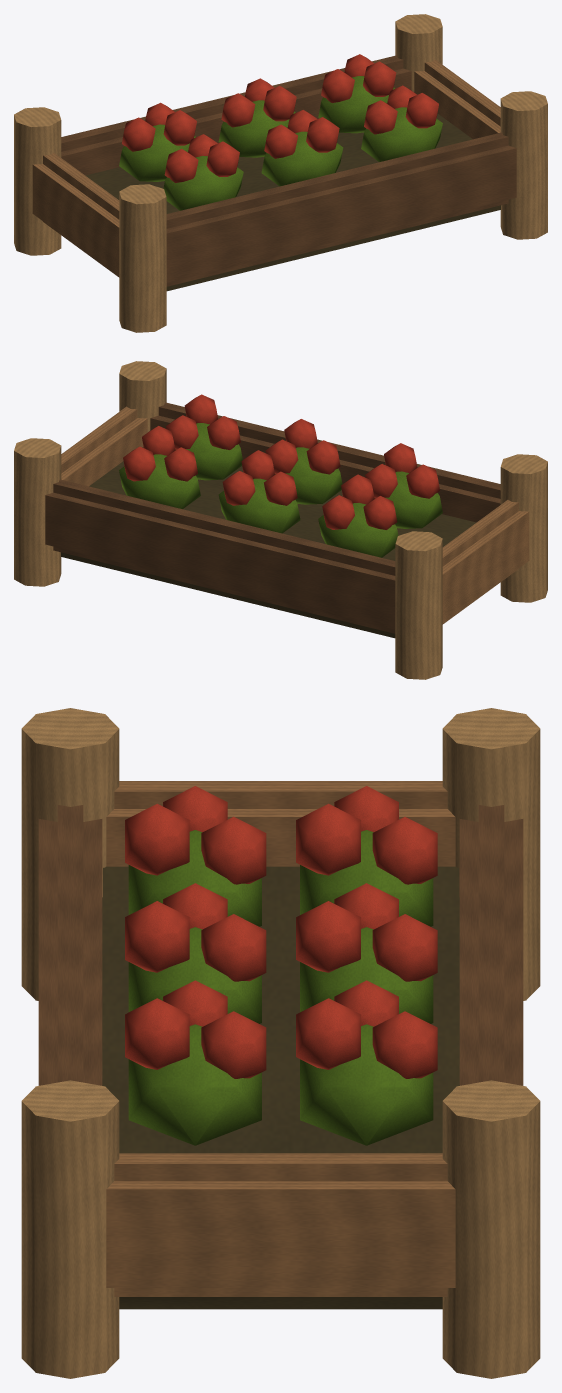
Rendered from planter-0.fbx.
3 renders of one model, top to bottom at view 1: azimuth 30°, elevation 25°; view 2: azimuth 150°, elevation 25°; view 3: azimuth 270°, elevation 25°, orthographic. The views are drawn at different scales.
Parts seen in each view (by area): view 1: planter-0__Geometry; view 2: planter-0__Geometry; view 3: planter-0__Geometry.
Part boxes in pixels (bbox=[...]): planter-0__Geometry: bbox=[14, 14, 547, 332]; planter-0__Geometry: bbox=[14, 361, 547, 679]; planter-0__Geometry: bbox=[21, 708, 540, 1378].
Size of the model in its own units: 2 by 0.635 by 1.06.
